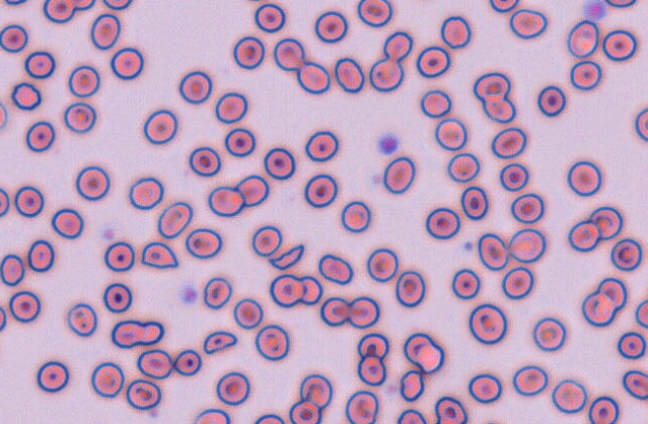PLT: (377, 133, 400, 155), (583, 0, 606, 19), (181, 284, 198, 303), (101, 227, 116, 242)
RBC: (403, 332, 444, 373), (468, 303, 507, 344), (110, 319, 164, 348), (508, 228, 546, 263), (157, 201, 192, 239), (254, 324, 289, 361), (566, 19, 599, 58), (551, 378, 587, 413), (90, 361, 124, 398), (382, 156, 415, 194), (581, 291, 616, 326), (75, 165, 110, 200), (567, 160, 601, 196), (473, 71, 511, 103), (477, 232, 509, 270), (368, 58, 403, 92), (215, 371, 250, 405), (128, 176, 163, 210), (143, 109, 177, 144), (299, 373, 332, 409), (207, 185, 244, 217), (185, 227, 222, 259), (509, 8, 547, 39), (532, 317, 566, 351), (178, 70, 212, 104), (303, 173, 337, 207), (269, 274, 304, 307), (125, 378, 161, 410), (589, 206, 623, 239), (344, 390, 378, 423), (296, 61, 330, 94), (416, 45, 450, 78), (602, 29, 637, 61), (425, 207, 460, 239), (366, 247, 398, 282), (136, 348, 172, 379), (512, 365, 548, 396), (490, 127, 526, 158), (395, 270, 425, 307), (567, 219, 600, 252), (434, 117, 467, 150), (314, 10, 347, 43), (110, 47, 143, 80), (235, 174, 269, 206), (273, 37, 305, 71), (232, 35, 264, 69), (304, 130, 338, 162), (90, 13, 120, 49), (334, 57, 364, 93), (501, 266, 533, 299), (610, 238, 642, 271), (36, 360, 69, 392), (8, 290, 41, 322), (67, 65, 100, 97), (63, 101, 96, 133), (214, 91, 247, 123), (263, 147, 295, 180), (510, 192, 544, 223), (347, 296, 379, 328), (440, 15, 471, 48), (50, 208, 83, 239), (67, 302, 97, 336), (467, 373, 501, 403), (382, 30, 413, 62), (103, 241, 135, 272), (340, 200, 371, 232), (202, 276, 232, 309), (447, 152, 480, 182), (569, 60, 602, 90), (188, 146, 221, 176), (460, 185, 488, 220), (356, 0, 392, 27), (251, 225, 282, 256), (597, 277, 627, 309), (233, 297, 263, 329), (14, 185, 44, 217), (25, 120, 55, 152), (102, 282, 132, 313), (224, 127, 255, 157), (537, 85, 566, 117), (434, 395, 467, 423), (357, 355, 386, 386), (420, 89, 451, 118), (451, 268, 480, 299), (24, 50, 55, 79), (254, 3, 285, 32), (27, 239, 54, 272), (320, 296, 349, 326), (588, 395, 619, 423), (357, 332, 389, 359), (499, 162, 528, 191), (11, 82, 41, 110), (483, 97, 515, 123), (617, 331, 646, 359), (288, 399, 321, 423), (0, 253, 24, 286), (173, 348, 201, 376), (0, 24, 28, 52), (622, 369, 647, 400), (43, 0, 75, 23), (299, 275, 322, 305), (193, 408, 230, 423), (396, 408, 427, 423), (634, 107, 647, 141), (488, 0, 519, 12), (635, 298, 647, 328), (253, 413, 285, 423), (0, 187, 10, 217), (102, 0, 132, 10), (604, 0, 637, 8), (71, 0, 95, 10), (0, 101, 8, 129), (0, 305, 7, 331), (4, 0, 27, 5)
Schistocyte: (141, 241, 180, 270), (319, 254, 354, 285), (268, 245, 305, 269), (203, 331, 238, 355), (400, 370, 425, 401)
